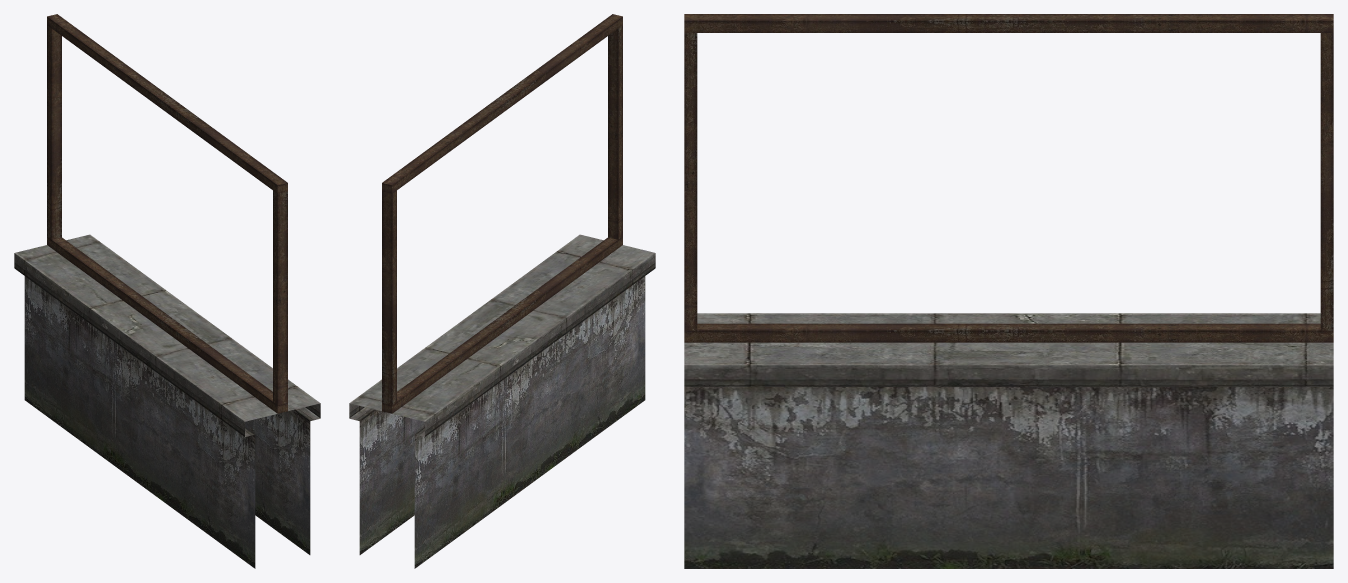
File: Concrete_fence_v2_S_half.glb
3 renders of one model, left to right at view 1: azimuth 30°, elevation 25°; view 2: azimuth 150°, elevation 25°; view 3: azimuth 270°, elevation 25°, orthographic. The views are drawn at different scales.
Visible parts, largest first — view 1: Concrete_fence_v2_S_half; view 2: Concrete_fence_v2_S_half; view 3: Concrete_fence_v2_S_half.
Boxes of the visible parts, x1,y1,x2,y2 form: Concrete_fence_v2_S_half: (14, 14, 320, 568); Concrete_fence_v2_S_half: (349, 14, 655, 568); Concrete_fence_v2_S_half: (684, 14, 1333, 568).
Size of the model in its own units: 0.538 by 2.57 by 2.84.
Materials: 1 (1 with a texture image).
